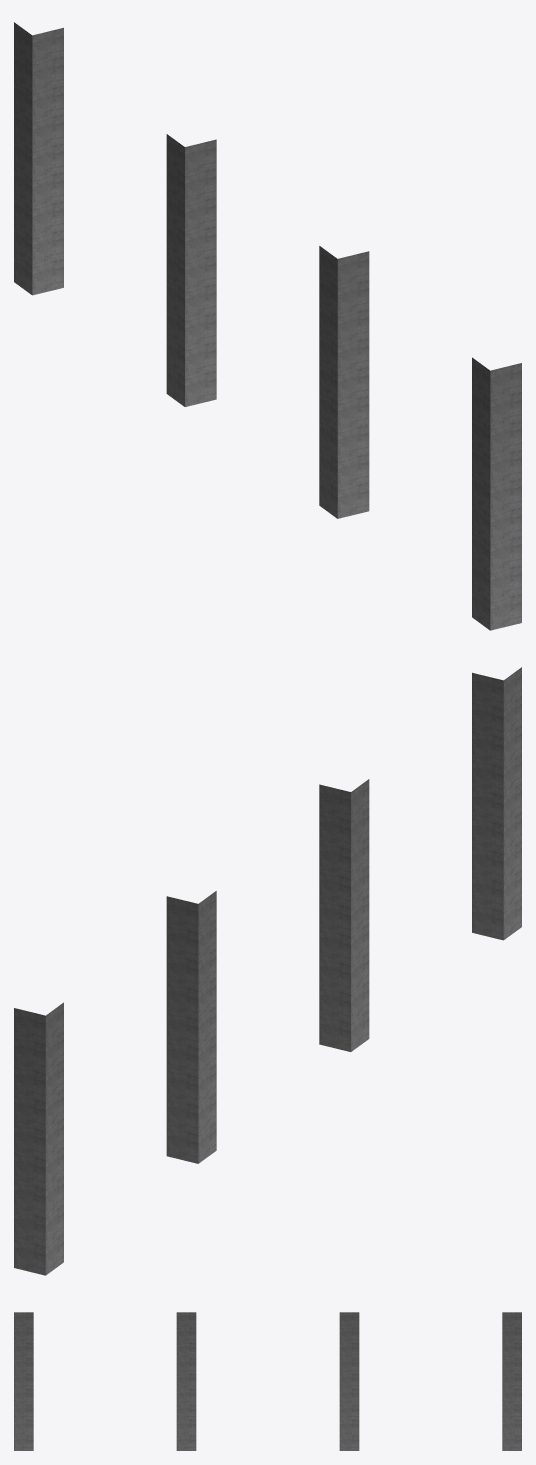
Rendered from AMB_KONKURI_CHU.glb.
The picture shows the model from 3 angles, top to bottom: view 1: azimuth 30°, elevation 25°; view 2: azimuth 150°, elevation 25°; view 3: azimuth 270°, elevation 25°; orthographic projection. The views are drawn at different scales.
Parts seen in each view (by area): view 1: obj49, obj48, obj50, obj12; view 2: obj48, obj49, obj12, obj50; view 3: obj49, obj48, obj50, obj12.
Boxes of the visible parts, x1,y1,x2,y2 form: obj49: (319,246,369,518); obj48: (166,134,216,406); obj50: (472,357,521,630); obj12: (14,22,63,295); obj48: (166,891,216,1163); obj49: (319,779,369,1051); obj12: (14,1002,63,1275); obj50: (472,667,521,940); obj49: (176,1312,196,1450); obj48: (339,1312,359,1450); obj50: (14,1312,33,1450); obj12: (502,1312,521,1450).
Size of the model in its own units: 3 by 23.5 by 78.
4 materials, 4 textured.
